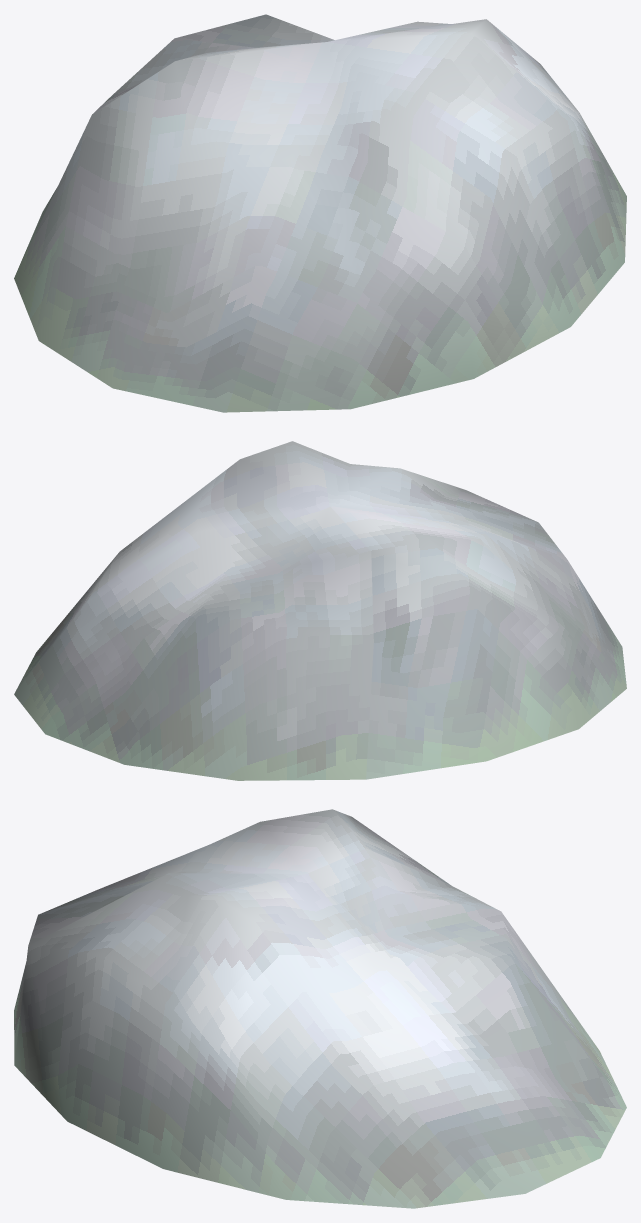
Rendered from TROLLHOLE02_STONEA06.fbx.
3 renders of one model, top to bottom at view 1: azimuth 30°, elevation 25°; view 2: azimuth 150°, elevation 25°; view 3: azimuth 270°, elevation 25°, orthographic. The views are drawn at different scales.
Parts seen in each view (by area): view 1: TROLLHOLE02_STONEA06; view 2: TROLLHOLE02_STONEA06; view 3: TROLLHOLE02_STONEA06.
Boxes of the visible parts, left/top/right/bottom form: TROLLHOLE02_STONEA06: left=14, top=14, right=626, bottom=412; TROLLHOLE02_STONEA06: left=14, top=441, right=626, bottom=780; TROLLHOLE02_STONEA06: left=14, top=809, right=626, bottom=1208.
Size of the model in its own units: 12106 by 4514 by 11572.
Materials: 1 (1 with a texture image).
